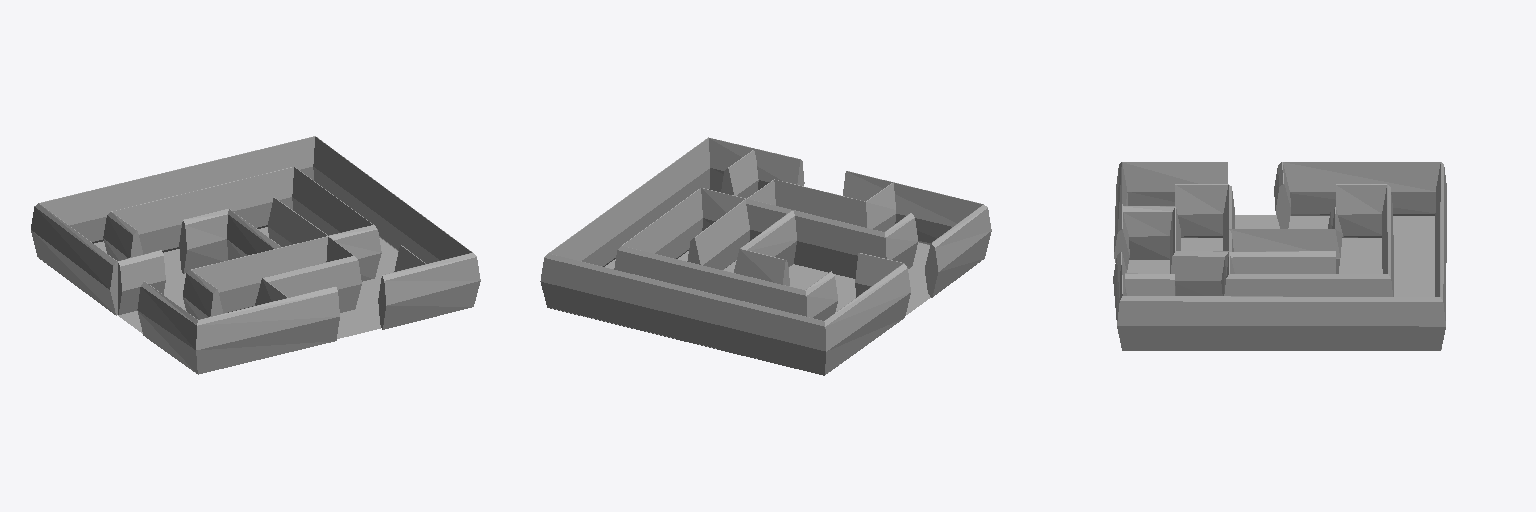
File: Maze_scale.obj
3 views of the same model, side by side, from view 1: azimuth 30°, elevation 25°; view 2: azimuth 150°, elevation 25°; view 3: azimuth 270°, elevation 25° (orthographic).
Visible parts, largest first — view 1: Labyrinth; view 2: Labyrinth; view 3: Labyrinth.
Part boxes in pixels (left/top/right/bottom): Labyrinth: left=31, top=136, right=480, bottom=374; Labyrinth: left=540, top=137, right=991, bottom=375; Labyrinth: left=1113, top=162, right=1446, bottom=350.
Bounding box in the file's own units: 126 × 22.6 × 126.